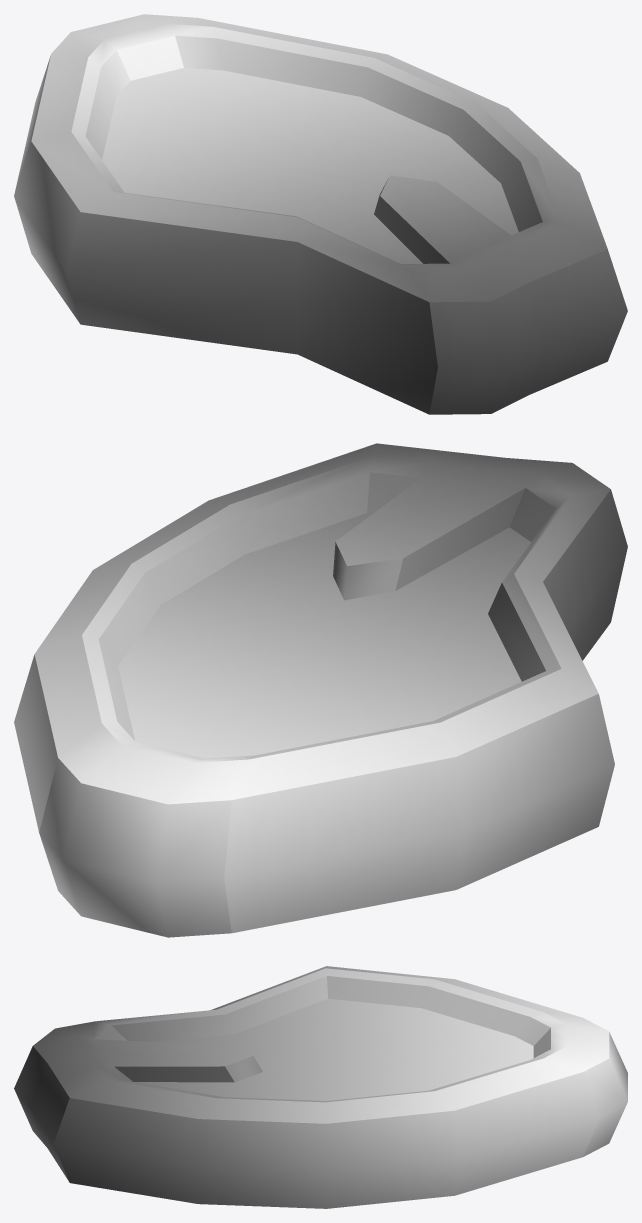
Rendered from HotSteak.fbx.
3 renders of one model, top to bottom at view 1: azimuth 30°, elevation 25°; view 2: azimuth 150°, elevation 25°; view 3: azimuth 270°, elevation 25°, orthographic. The views are drawn at different scales.
Visible parts, largest first — view 1: HotSteak; view 2: HotSteak; view 3: HotSteak.
Part boxes in pixels (<box>): HotSteak: <box>14,14,627,414</box>; HotSteak: <box>14,443,627,937</box>; HotSteak: <box>14,966,627,1208</box>.
Bounding box in the file's own units: 0.7745 × 0.2187 × 1.2.
